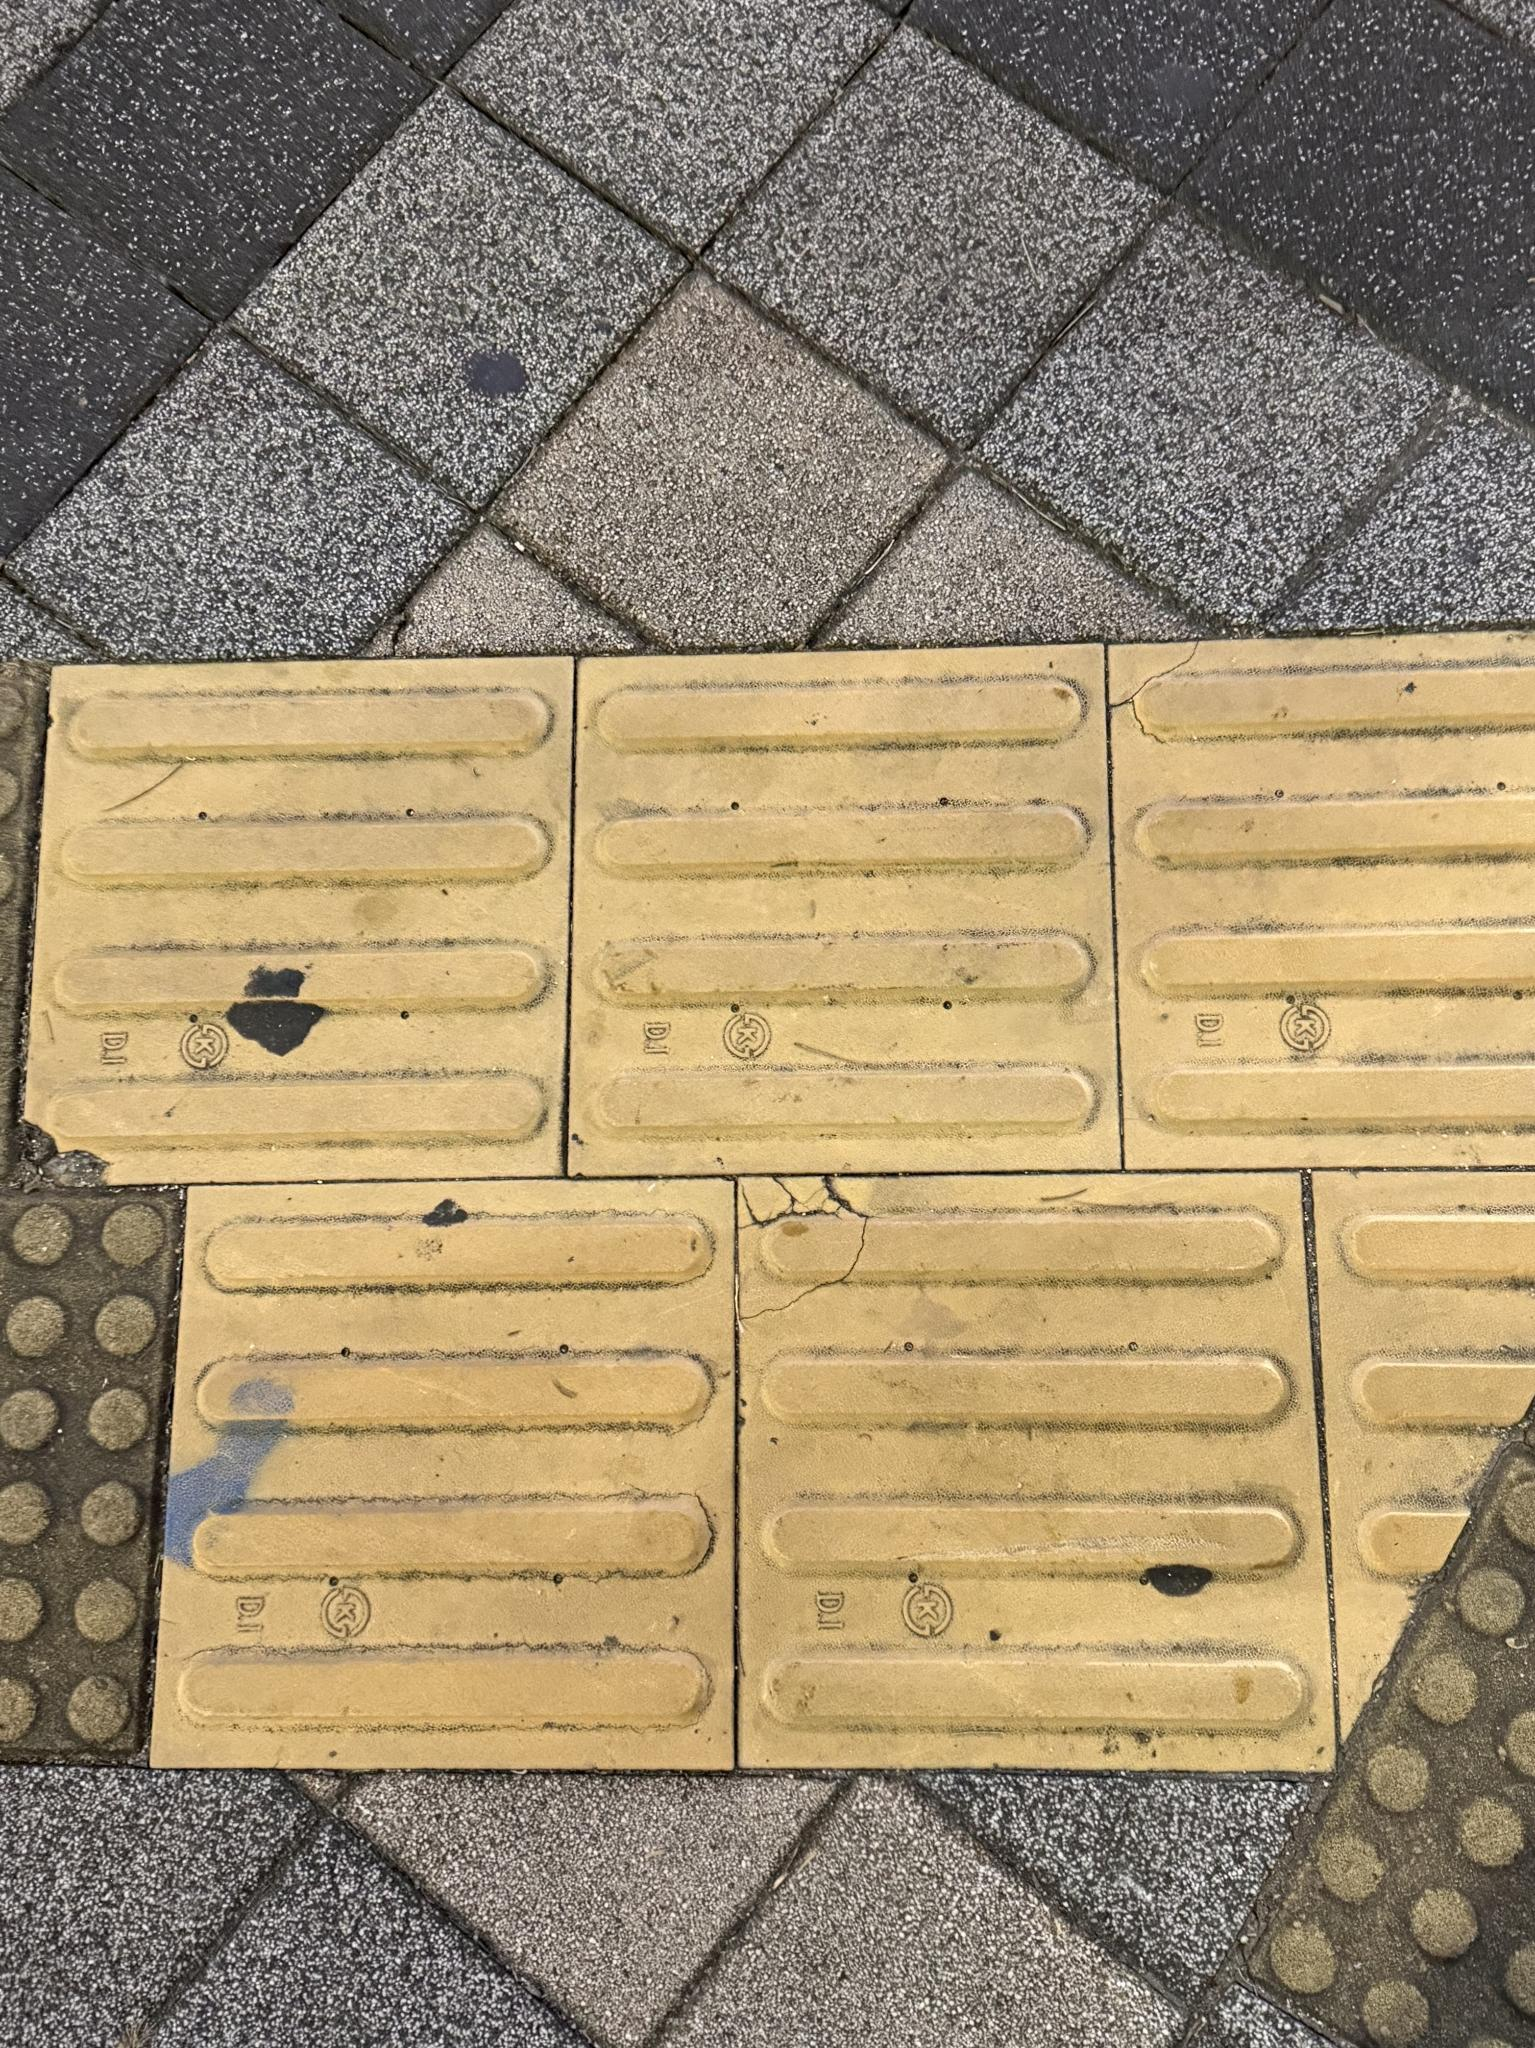Straight block broken: (19, 661, 569, 1182)
Straight block normal: (150, 1188, 727, 1764), (574, 650, 1117, 1163)
